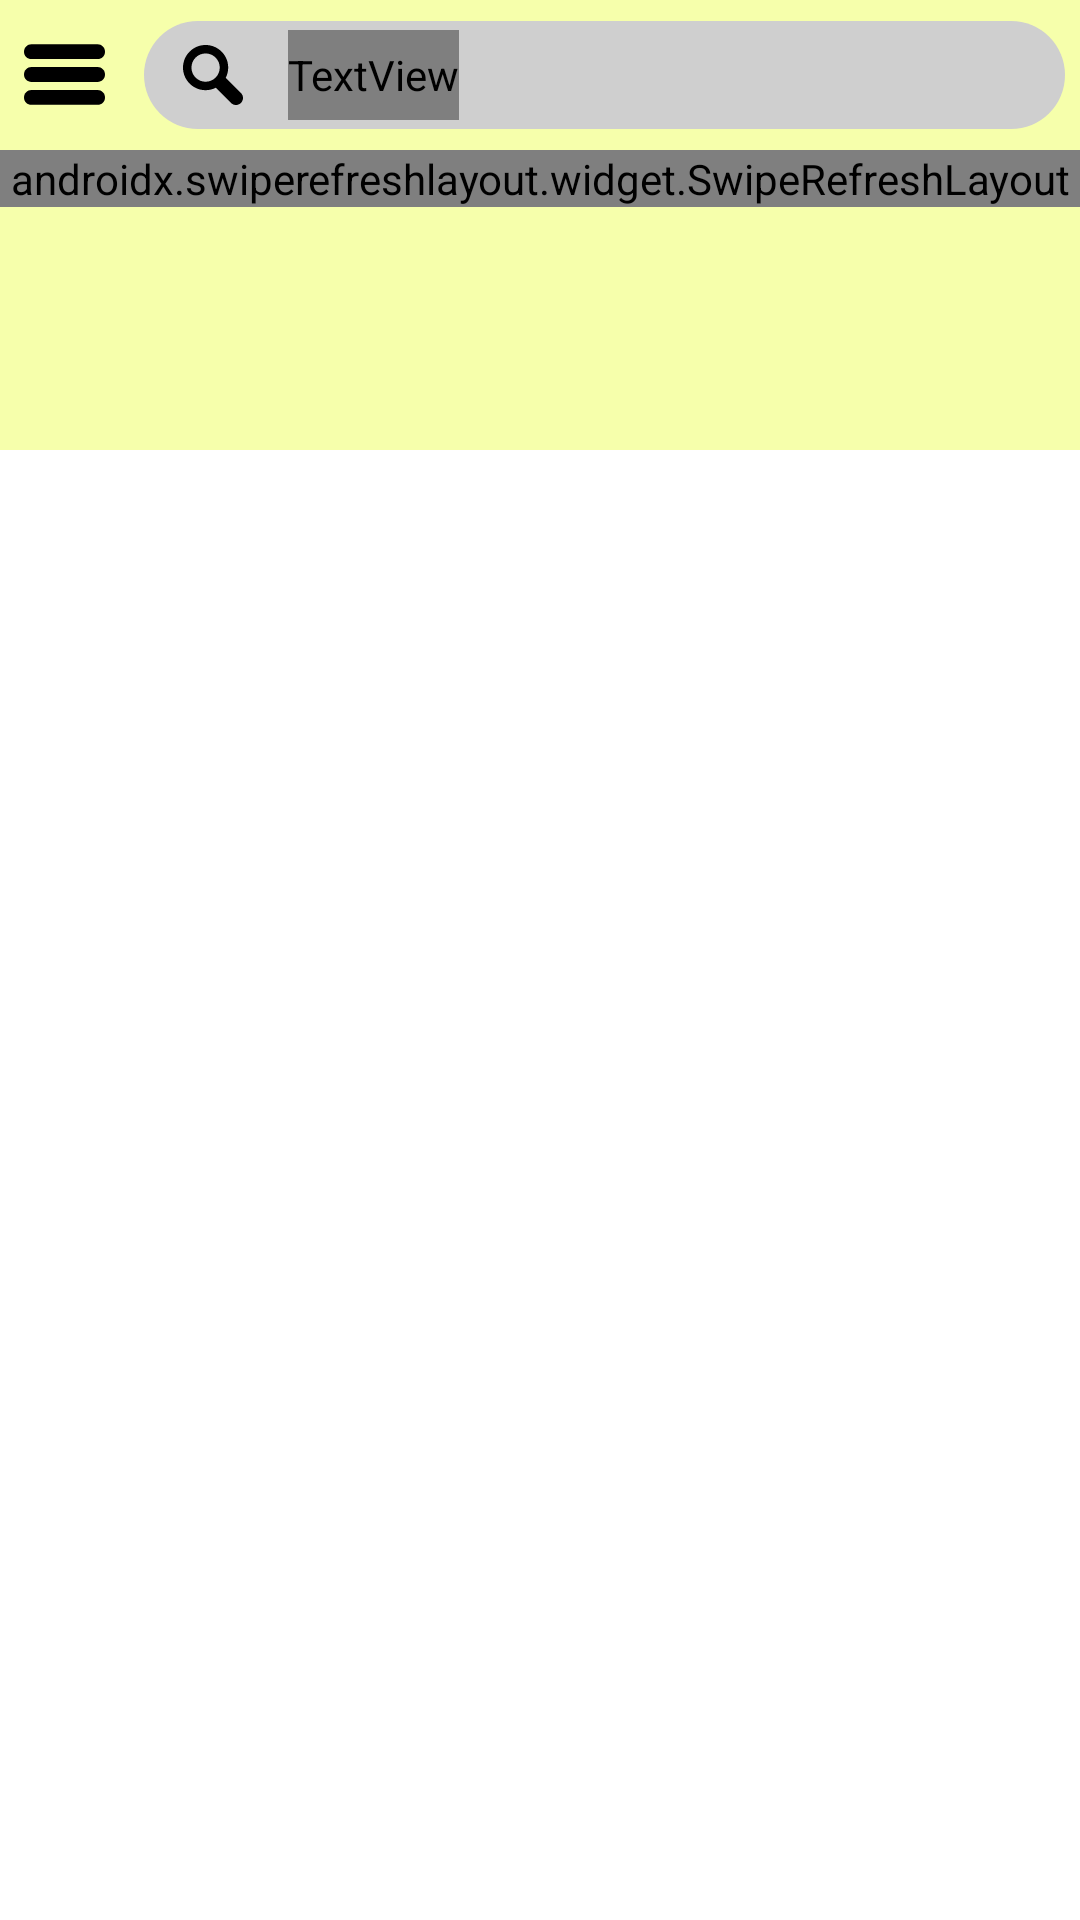

Icons on this 1080px x 1920px Android screen, each with the point to tap as [x,y]:
menu: [64,74]
